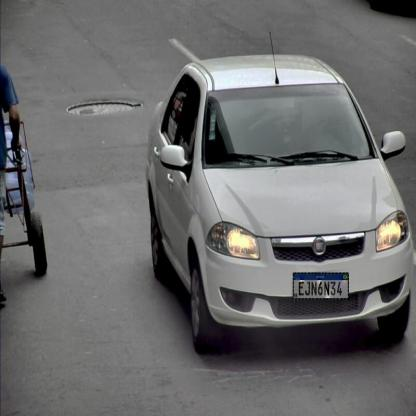PlacaM: (293, 272, 349, 300)
